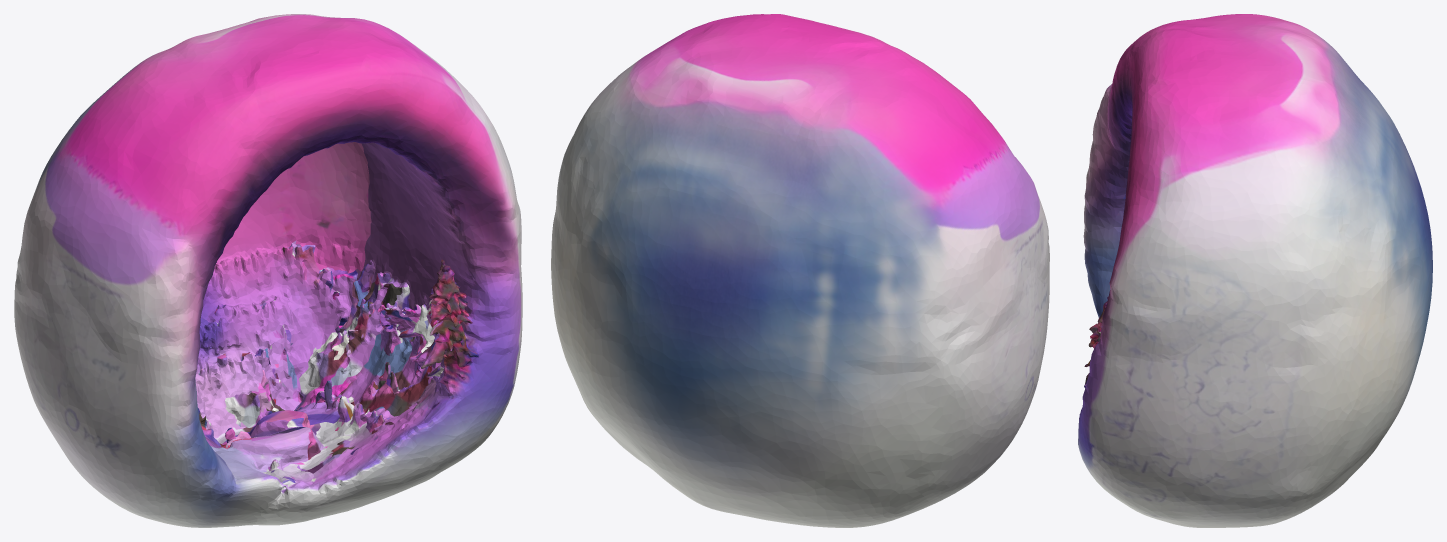
Rendered from well-dais-generated-2026-04-19T04-35-09-188Z.glb.
The picture shows the model from 3 angles, left to right: view 1: azimuth 30°, elevation 25°; view 2: azimuth 150°, elevation 25°; view 3: azimuth 270°, elevation 25°; orthographic projection. The views are drawn at different scales.
Parts seen in each view (by area): view 1: temp_mesh.ply; view 2: temp_mesh.ply; view 3: temp_mesh.ply.
Part boxes in pixels (x1=…): temp_mesh.ply: x1=14, y1=14, x2=522, y2=527; temp_mesh.ply: x1=551, y1=14, x2=1049, y2=527; temp_mesh.ply: x1=1078, y1=14, x2=1432, y2=527.
Bounding box in the file's own units: 1.97 × 1.97 × 1.42.
Materials: 1 (1 with a texture image).
